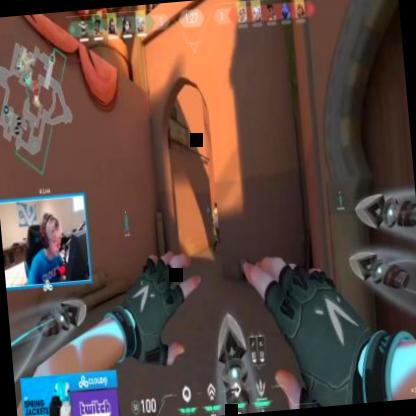enemy: (208, 203, 224, 251)
enemy_head: (214, 203, 218, 209)
